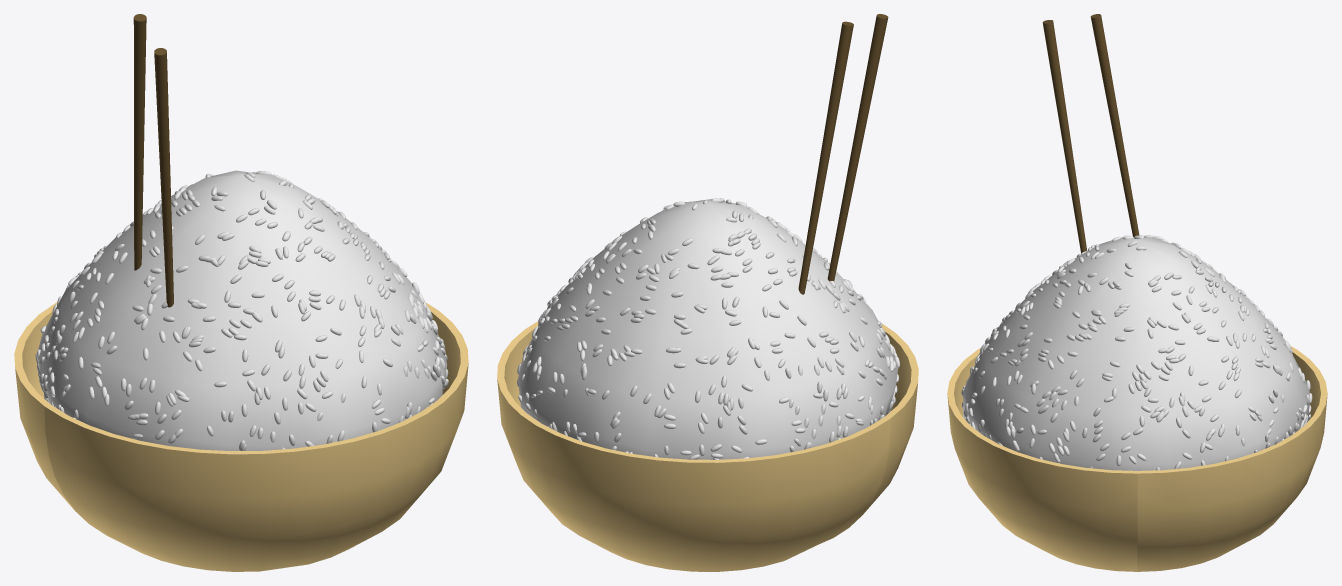
Rendered from rice.fbx.
The picture shows the model from 3 angles, left to right: view 1: azimuth 30°, elevation 25°; view 2: azimuth 150°, elevation 25°; view 3: azimuth 270°, elevation 25°; orthographic projection. The views are drawn at different scales.
Parts seen in each view (by area): view 1: Inner Rice shape, Bowl_for_cms611_Rice, Cylinder, Cylinder.001; view 2: Inner Rice shape, Bowl_for_cms611_Rice, Cylinder.001, Cylinder; view 3: Inner Rice shape, Bowl_for_cms611_Rice, Cylinder, Cylinder.001.
Boxes of the visible parts, left/top/right/bottom form: Inner Rice shape: left=38, top=170, right=447, bottom=451; Bowl_for_cms611_Rice: left=14, top=302, right=468, bottom=571; Cylinder: left=154, top=48, right=173, bottom=307; Cylinder.001: left=133, top=14, right=146, bottom=270; Inner Rice shape: left=518, top=199, right=898, bottom=459; Bowl_for_cms611_Rice: left=497, top=321, right=918, bottom=571; Cylinder.001: left=798, top=21, right=853, bottom=294; Cylinder: left=827, top=14, right=888, bottom=281; Inner Rice shape: left=963, top=237, right=1309, bottom=470; Bowl_for_cms611_Rice: left=947, top=346, right=1327, bottom=571; Cylinder: left=1042, top=20, right=1086, bottom=253; Cylinder.001: left=1090, top=14, right=1139, bottom=237.
Bounding box in the file's own units: 490 × 651 × 490.
